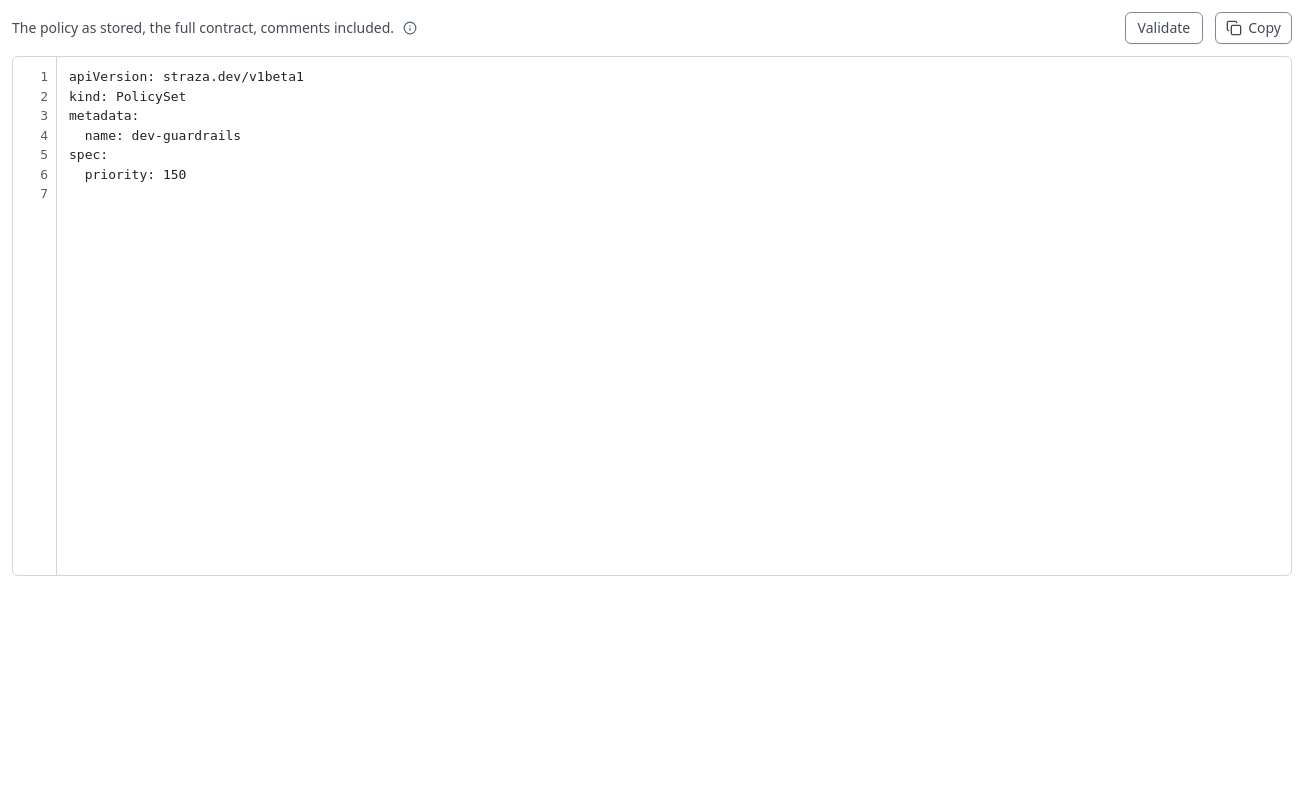
Scenario: the YAML tab › prints the server's reading of a text that is valid, with its advisories
What coordinates should you click on to do the following:
click the button "Validate"
I would click on:
 (1164, 28)
Its box is [1125,12,1203,44].
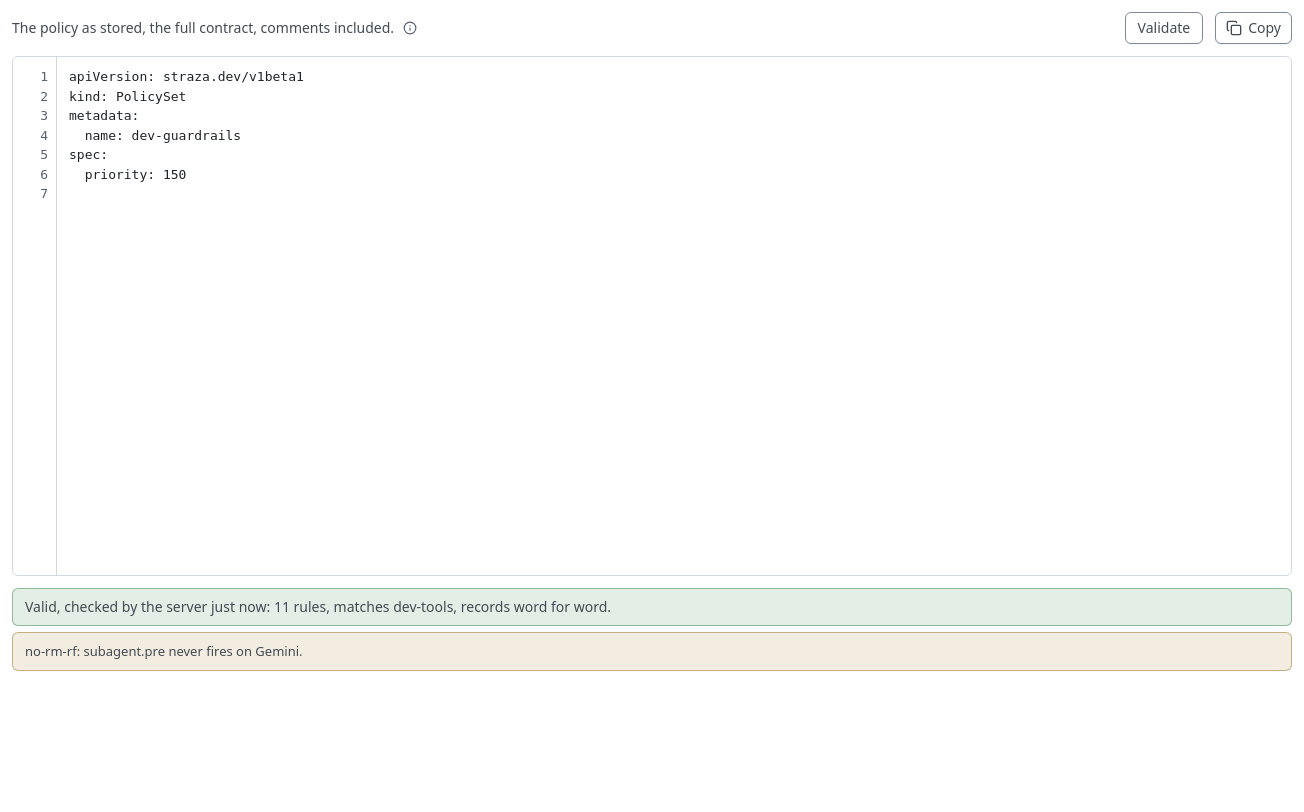
Check: the message is shown, box [12,588,1292,626]
Check: the message shows "Valid, checked by the server just now: 11 rules, matches dev-tools, records word for word.", box [25,597,611,616]
Check: the text "no-rm-rf: subagent.pre never fires on Gemini." is shown, box [12,632,1292,671]
